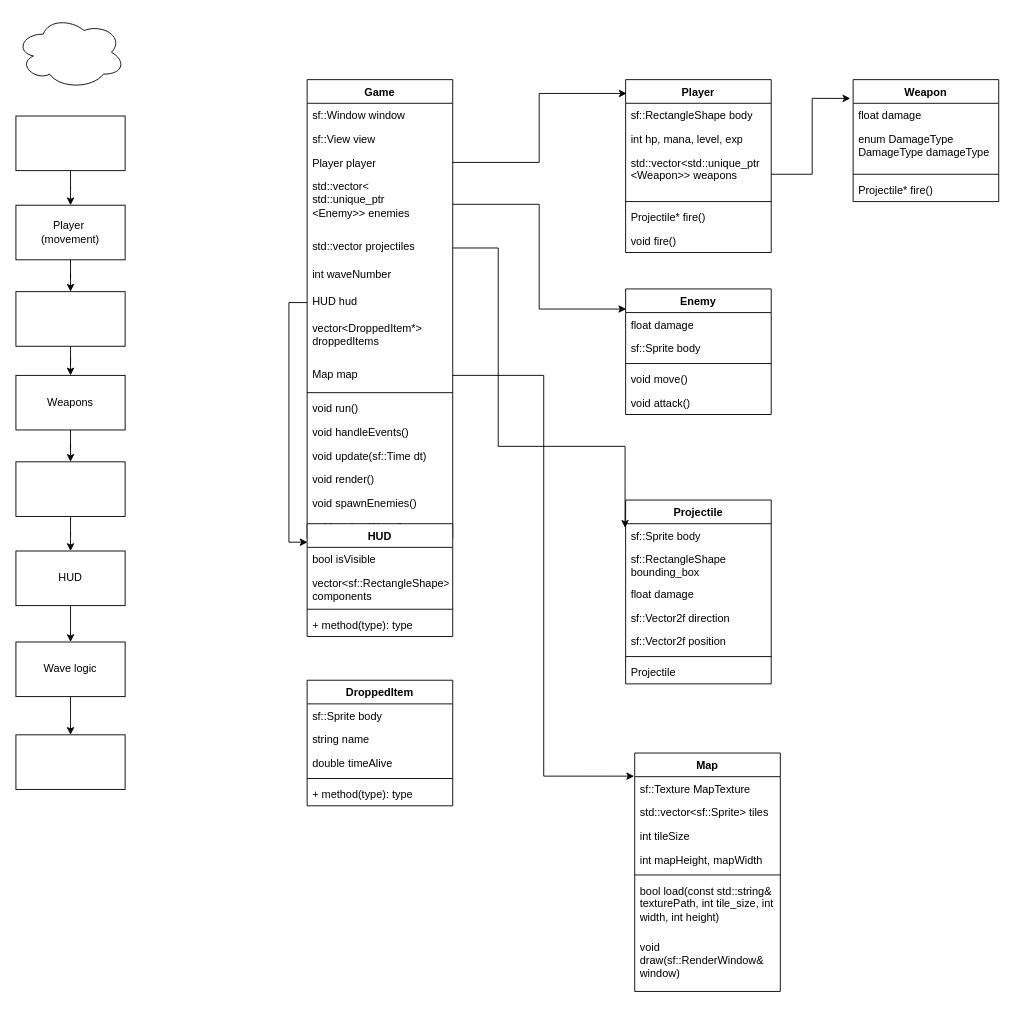
Image size: 1015x1010. Some labels were removed from this diagram. The centre of each missing label's shape, as x and y in pixels:
"Enemies (movement, attack)" belongs at (x=70, y=318).
"Expected Workflow" belongs at (x=70, y=52).
"Game (window, view)" belongs at (x=70, y=143).
"Powers" belongs at (x=70, y=761).
"Projectiles" belongs at (x=70, y=488).
